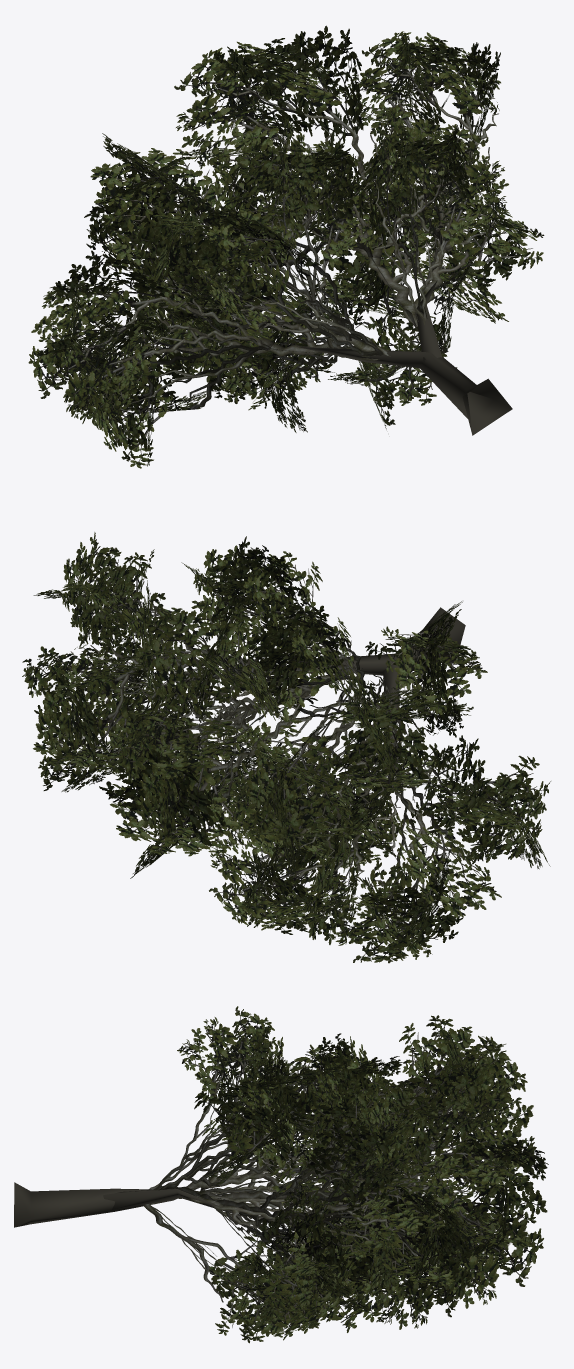
Rendered from MEP_Oak_02_LOD_01.fbx.
3 renders of one model, top to bottom at view 1: azimuth 30°, elevation 25°; view 2: azimuth 150°, elevation 25°; view 3: azimuth 270°, elevation 25°, orthographic. The views are drawn at different scales.
Parts seen in each view (by area): view 1: MEP_Oak_02_LOD_01; view 2: MEP_Oak_02_LOD_01; view 3: MEP_Oak_02_LOD_01.
Boxes of the visible parts, box(x1,y1,x2,y2) form: MEP_Oak_02_LOD_01: box(28, 25, 544, 468); MEP_Oak_02_LOD_01: box(22, 532, 550, 963); MEP_Oak_02_LOD_01: box(14, 1006, 548, 1343).
Size of the model in its own units: 16.65 by 11.73 by 16.42.
